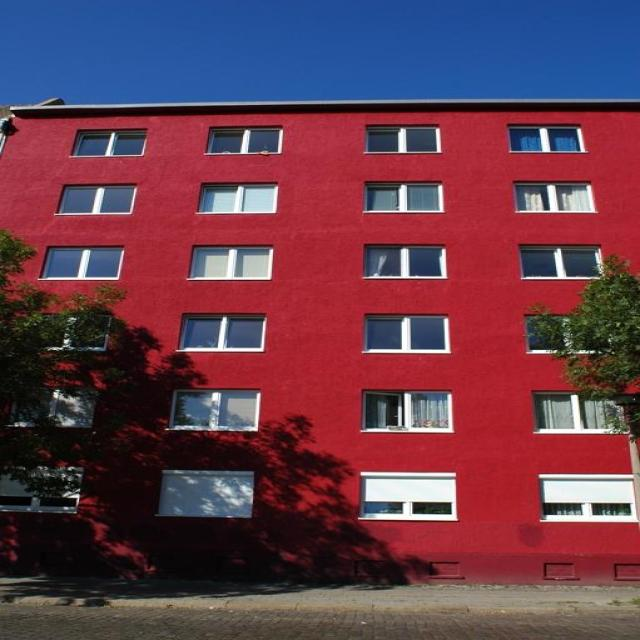glass panel: (218, 391, 256, 428), (55, 392, 94, 427), (173, 392, 211, 427), (411, 393, 449, 428), (534, 394, 573, 428), (365, 393, 401, 428), (181, 318, 220, 348), (580, 399, 619, 429), (225, 318, 263, 348), (410, 317, 445, 349), (366, 318, 401, 349), (85, 248, 121, 277), (191, 249, 228, 277), (45, 249, 82, 277), (234, 248, 269, 277), (366, 247, 400, 276), (521, 249, 557, 276), (562, 249, 598, 276), (556, 184, 591, 211), (409, 248, 442, 276), (201, 186, 236, 212), (516, 184, 549, 211), (61, 187, 96, 212), (100, 186, 133, 212), (242, 185, 274, 211), (407, 185, 439, 210), (366, 186, 398, 210), (248, 129, 280, 153), (209, 130, 242, 153), (75, 133, 109, 155), (509, 128, 541, 151), (112, 132, 144, 155), (548, 128, 579, 151), (406, 128, 436, 151), (367, 129, 398, 151), (592, 503, 632, 517), (411, 502, 451, 514), (543, 503, 582, 515), (363, 502, 402, 514)
